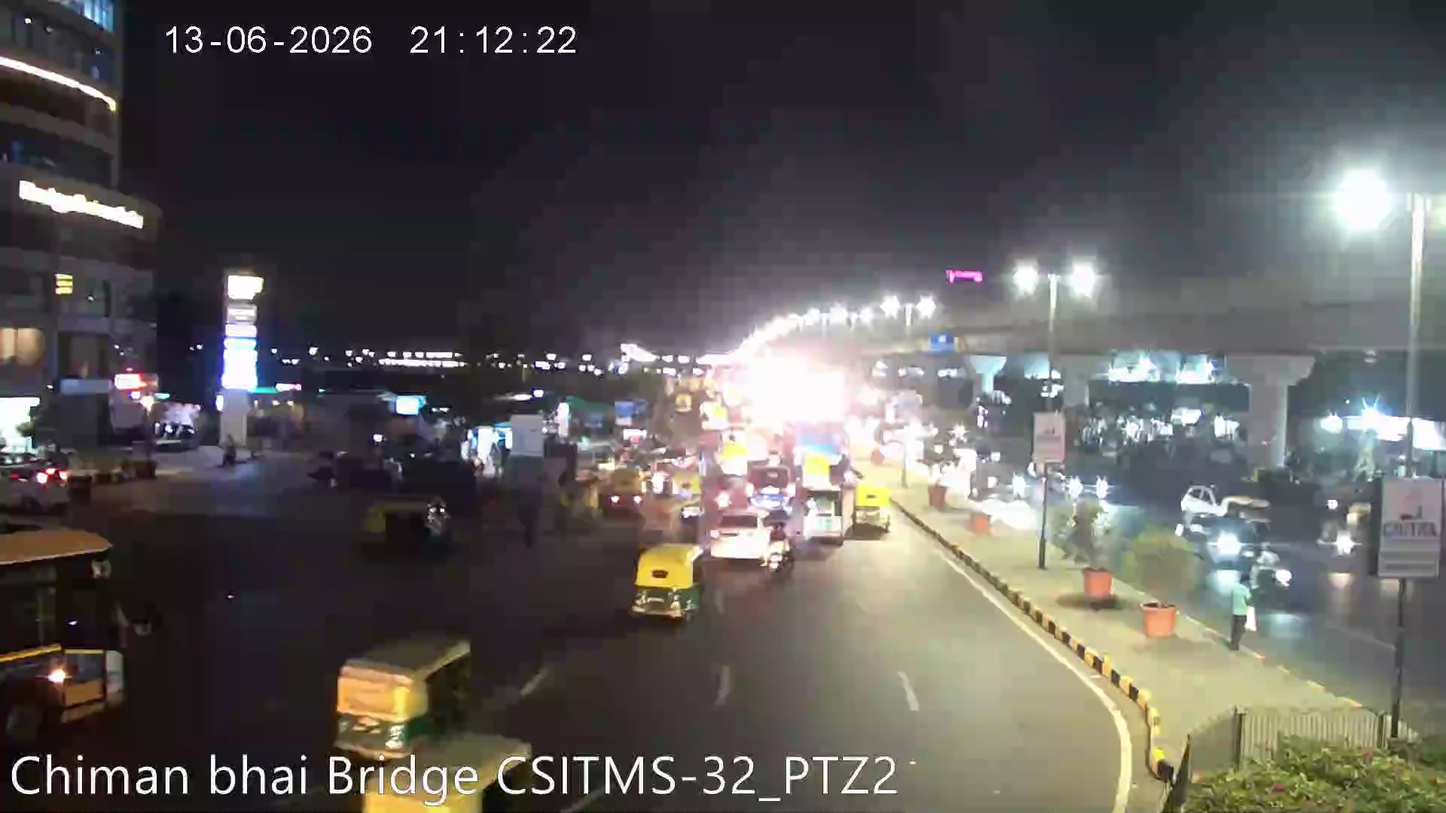auto_rickshaw: (331, 629, 479, 735), (353, 491, 457, 561), (628, 541, 708, 621), (594, 465, 649, 518), (851, 485, 895, 537), (801, 490, 845, 542)
bus: (0, 521, 134, 751)
car: (1175, 483, 1273, 541), (0, 453, 75, 515), (706, 510, 789, 566)
pedestrian: (1223, 573, 1258, 656)
truck: (799, 491, 847, 542)
